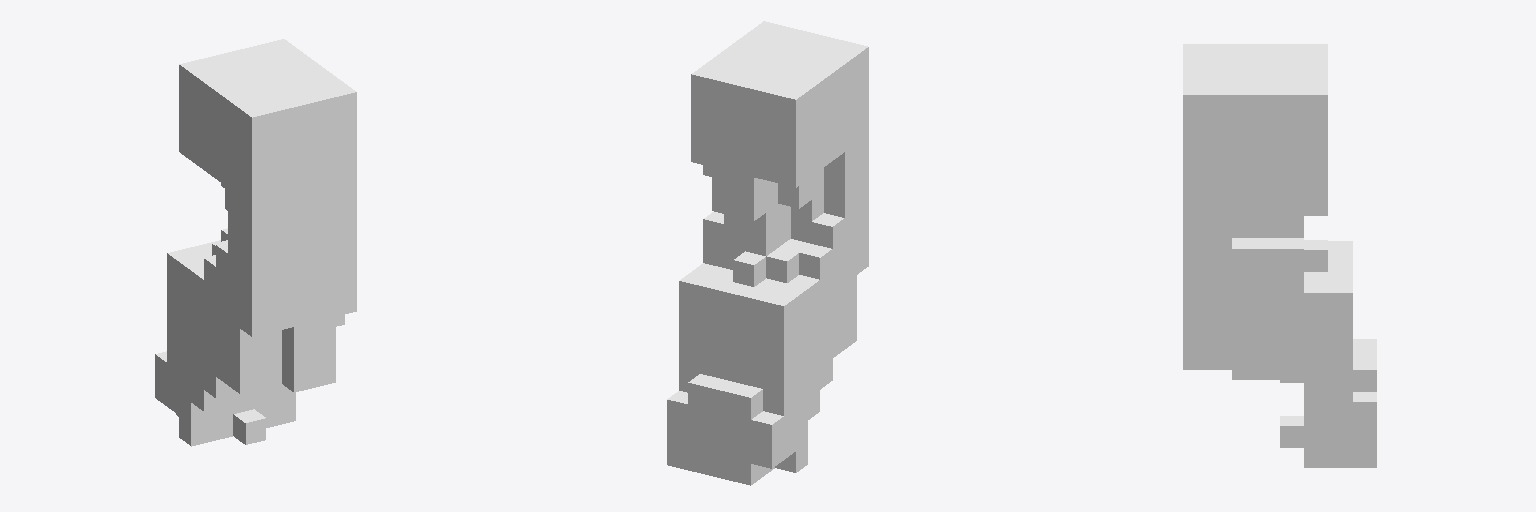
File: mob1-7.obj
The picture shows the model from 3 angles: view 1: azimuth 30°, elevation 25°; view 2: azimuth 150°, elevation 25°; view 3: azimuth 270°, elevation 25°; orthographic projection.
Visible parts, largest first — view 1: object 1; view 2: object 1; view 3: object 1.
Part boxes in pixels (bbox=[...]): object 1: bbox=[155, 39, 356, 446]; object 1: bbox=[667, 21, 868, 485]; object 1: bbox=[1183, 44, 1376, 467].
Bounding box in the file's own units: 0.5 × 1.7 × 0.8.